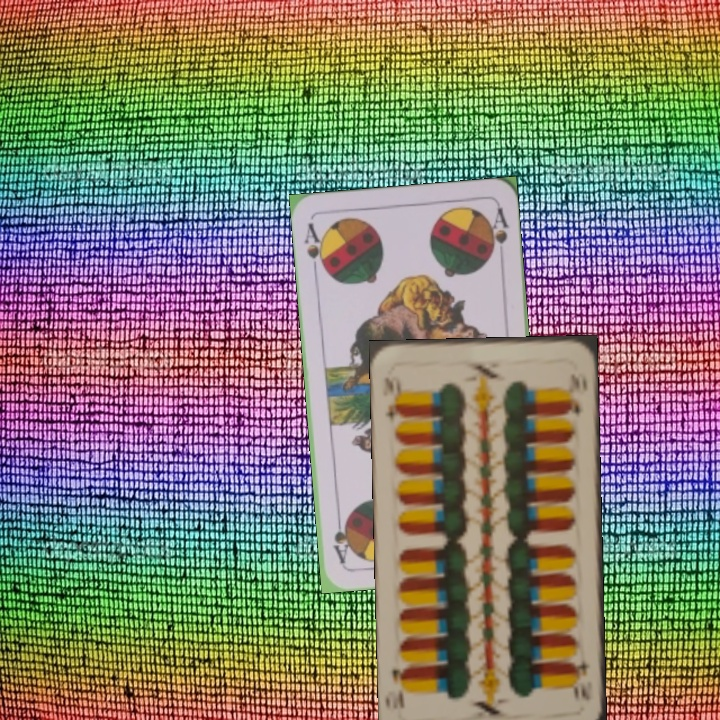E10: (379, 373, 404, 423), (570, 655, 594, 704)
SA: (300, 219, 329, 277)
